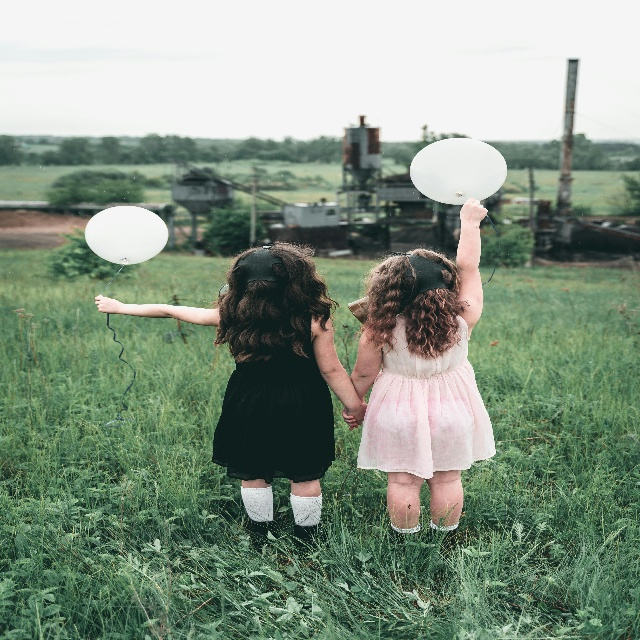Sin_guantes: (338, 399, 370, 429), (460, 196, 487, 224), (92, 292, 117, 318)
